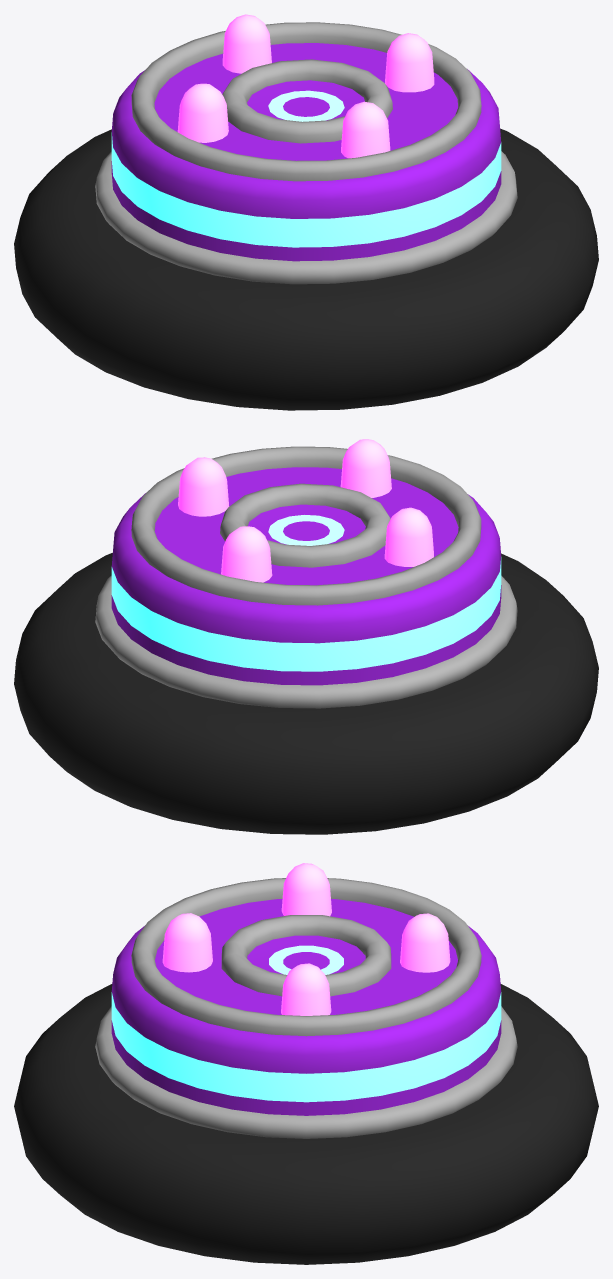
The model's file is mesh_Rooftop_Trap_BumperSmall.fbx.
3 renders of one model, top to bottom at view 1: azimuth 30°, elevation 25°; view 2: azimuth 150°, elevation 25°; view 3: azimuth 270°, elevation 25°, orthographic.
Visible parts, largest first — view 1: mesh_Rooftop_Trap_BumperSmall; view 2: mesh_Rooftop_Trap_BumperSmall; view 3: mesh_Rooftop_Trap_BumperSmall.
Boxes of the visible parts, bbox=[...] form: mesh_Rooftop_Trap_BumperSmall: bbox=[14, 14, 598, 410]; mesh_Rooftop_Trap_BumperSmall: bbox=[14, 439, 598, 834]; mesh_Rooftop_Trap_BumperSmall: bbox=[14, 863, 598, 1264].
Bounding box in the file's own units: 290 × 135 × 290.
